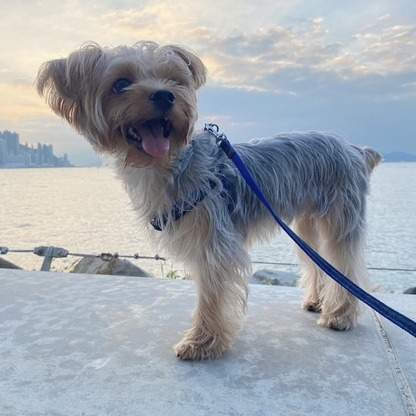yorkshire: (37, 44, 384, 365)
